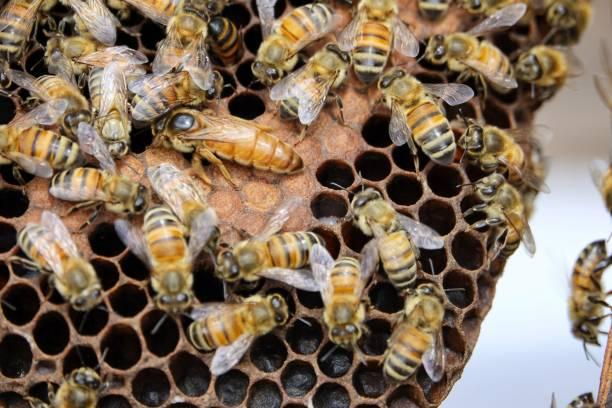Queen-Bee: (154, 107, 303, 186)
worker-bee: (49, 123, 149, 227), (216, 198, 324, 290), (424, 3, 526, 98), (350, 188, 443, 291), (378, 67, 473, 166), (11, 211, 102, 311), (115, 205, 194, 314), (188, 293, 289, 375), (270, 42, 351, 140), (251, 3, 337, 86), (338, 0, 418, 86), (86, 46, 145, 158), (310, 244, 374, 347), (458, 119, 548, 192), (464, 173, 535, 260), (383, 283, 444, 381), (568, 240, 611, 358)
